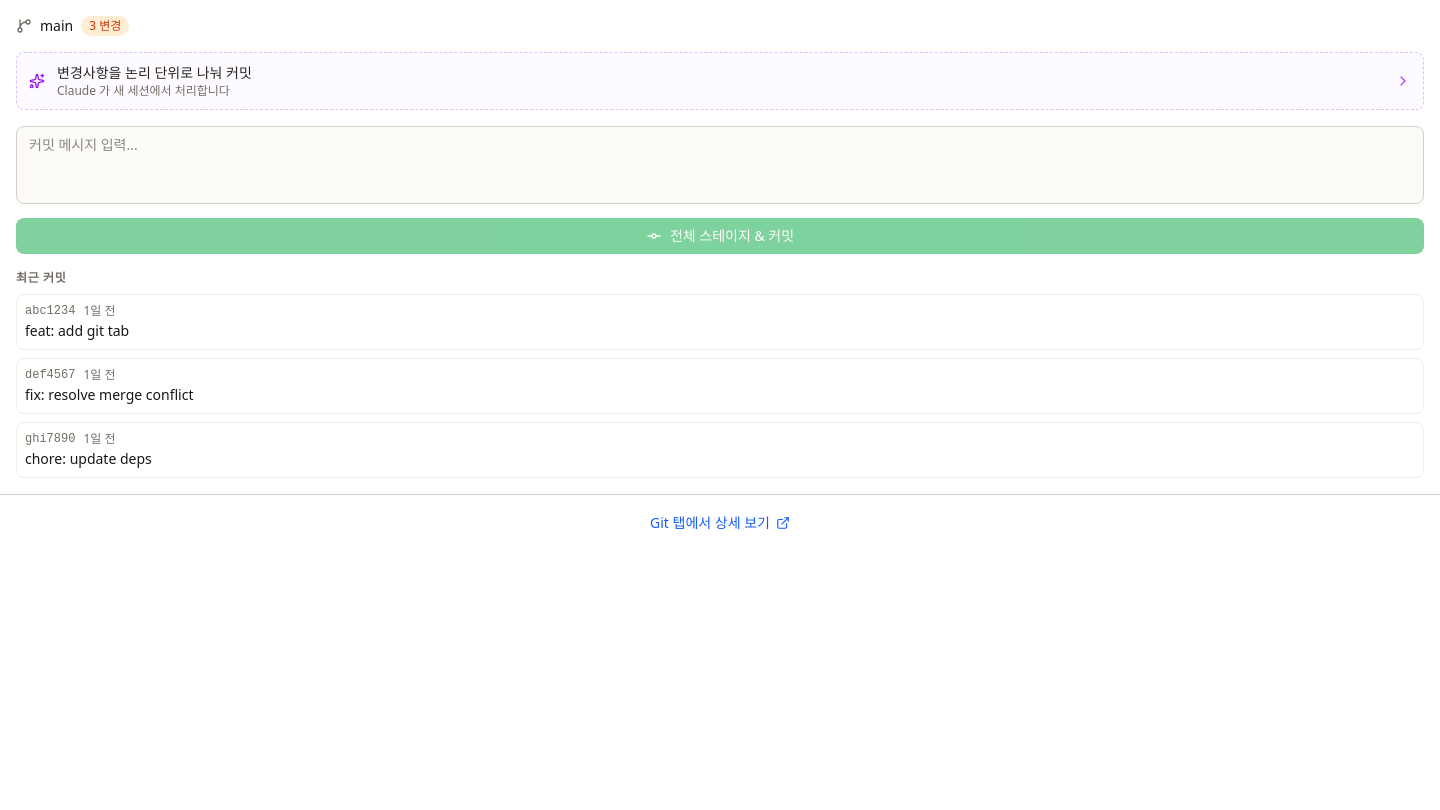
Test: QuickGitPanel › clears commit message and shows success on successful commit
This screenshot has width=1440, height=810.
Type "my commit" into the text box with test id "commit-message-input" at (720, 165), box [16,126,1424,204]
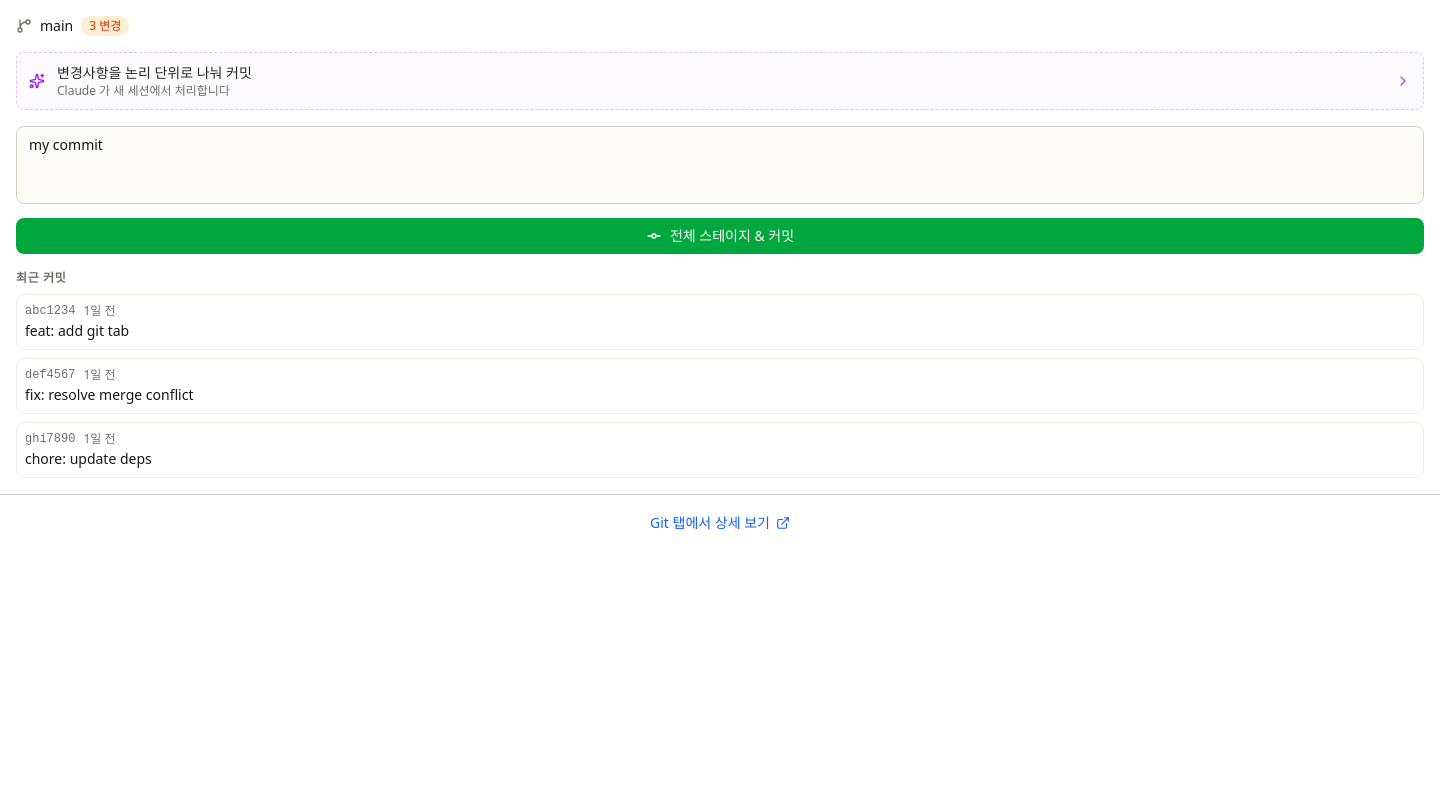
Click the button with test id "stage-commit-button" at (720, 236), box [16,218,1424,254]
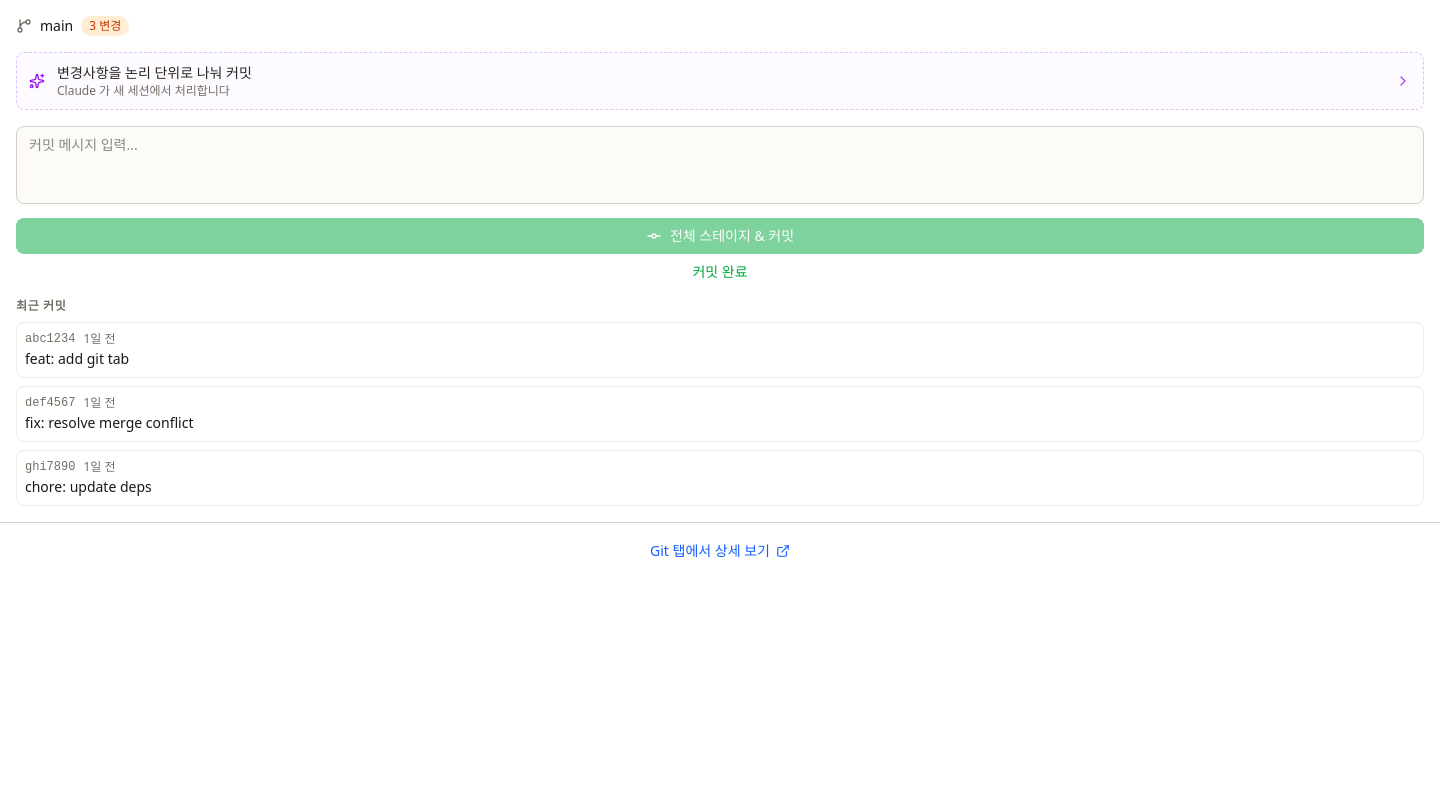
Check: the text with test id "commit-success" reads "커밋 완료", box [692,262,748,281]
